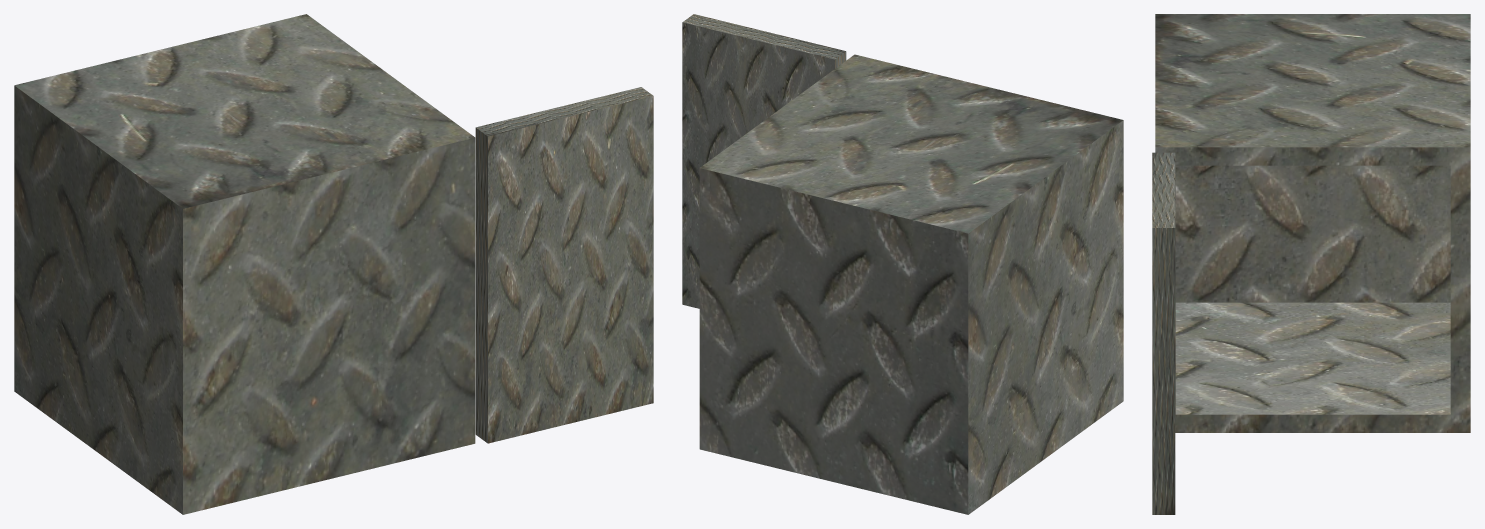
The model's file is JBayer_Safe.fbx.
The picture shows the model from 3 angles, left to right: view 1: azimuth 30°, elevation 25°; view 2: azimuth 150°, elevation 25°; view 3: azimuth 270°, elevation 25°; orthographic projection. The views are drawn at different scales.
Visible parts, largest first — view 1: Safe, Door; view 2: Safe, Door; view 3: Safe, Door.
Part boxes in pixels (x1,y1,x2,y2): Safe: (14,14,475,514); Door: (475,87,653,443); Safe: (699,54,1123,514); Door: (682,14,846,308); Safe: (1155,14,1470,432); Door: (1152,152,1175,514).
Size of the model in its own units: 130 by 81.48 by 81.88.
1 material, 1 textured.
